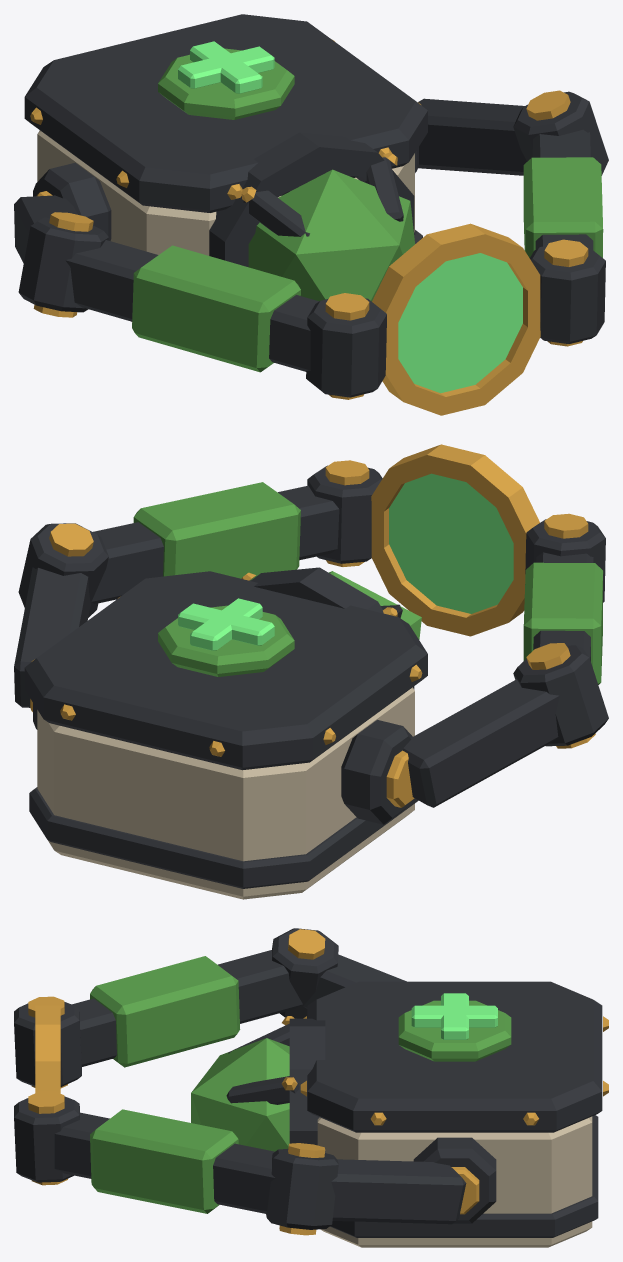
File: MenderA2.obj
The picture shows the model from 3 angles, top to bottom: view 1: azimuth 30°, elevation 25°; view 2: azimuth 150°, elevation 25°; view 3: azimuth 270°, elevation 25°; orthographic projection. The views are drawn at different scales.
Parts seen in each view (by area): view 1: MenderA2; view 2: MenderA2; view 3: MenderA2.
Boxes of the visible parts, bbox=[...] form: MenderA2: bbox=[14, 14, 608, 415]; MenderA2: bbox=[14, 444, 608, 899]; MenderA2: bbox=[14, 928, 608, 1247].
Bounding box in the file's own units: 1.48 × 0.5568 × 1.5.
